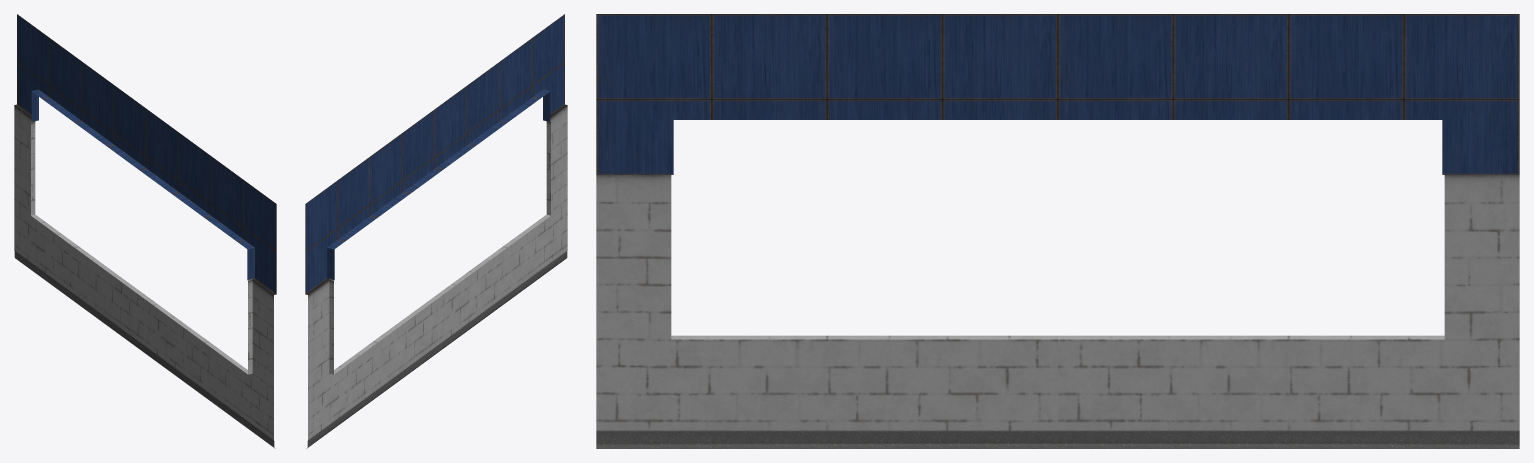
Rendered from Cafateria 8m Serving Counter.fbx.
3 renders of one model, left to right at view 1: azimuth 30°, elevation 25°; view 2: azimuth 150°, elevation 25°; view 3: azimuth 270°, elevation 25°, orthographic. The views are drawn at different scales.
Visible parts, largest first — view 1: Cafateria_8M_Serving_Counter; view 2: Cafateria_8M_Serving_Counter; view 3: Cafateria_8M_Serving_Counter.
Part boxes in pixels (box(x1,y1,x2,y2)): Cafateria_8M_Serving_Counter: box(14, 14, 276, 448); Cafateria_8M_Serving_Counter: box(305, 14, 567, 448); Cafateria_8M_Serving_Counter: box(596, 14, 1519, 448).
Bounding box in the file's own units: 13.18 × 416 × 800.
